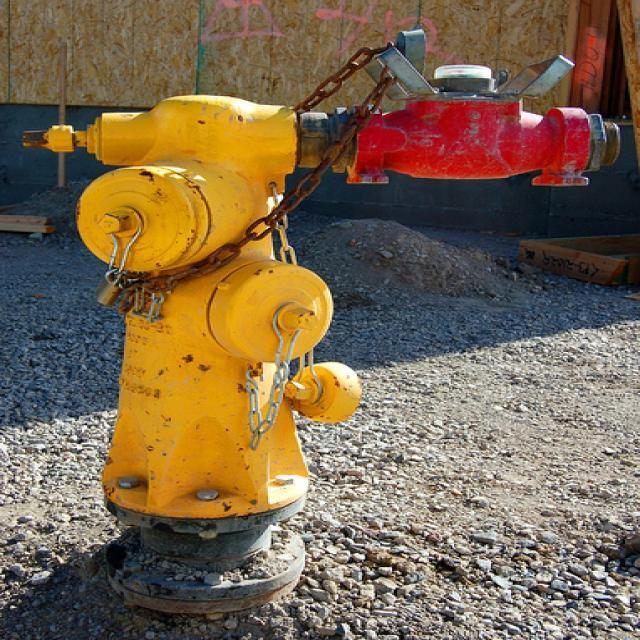fire_hydrant: (21, 29, 626, 616)
